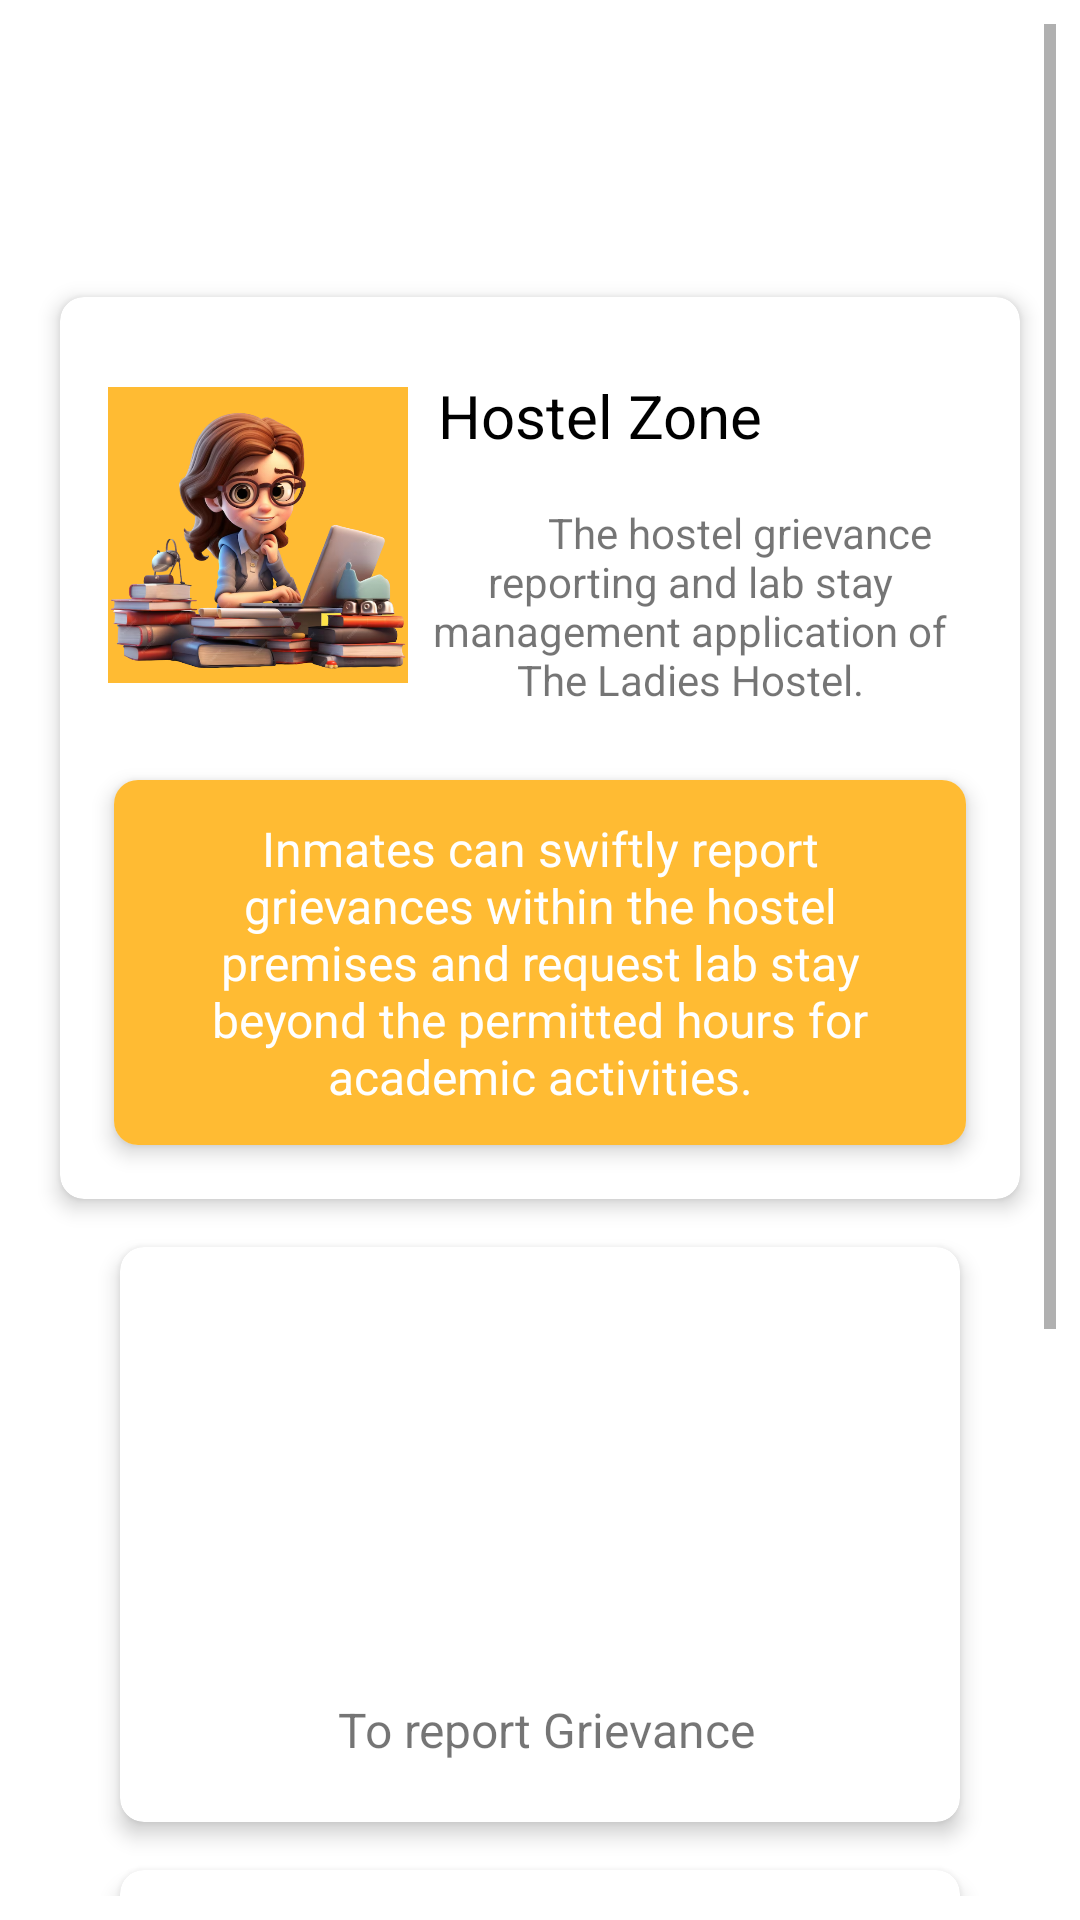

Named icons in this screenshot (1080 x 1920) and their bounding boxes, box(x1, y1, x2, y2):
studentgirl: box(108, 387, 408, 683)
